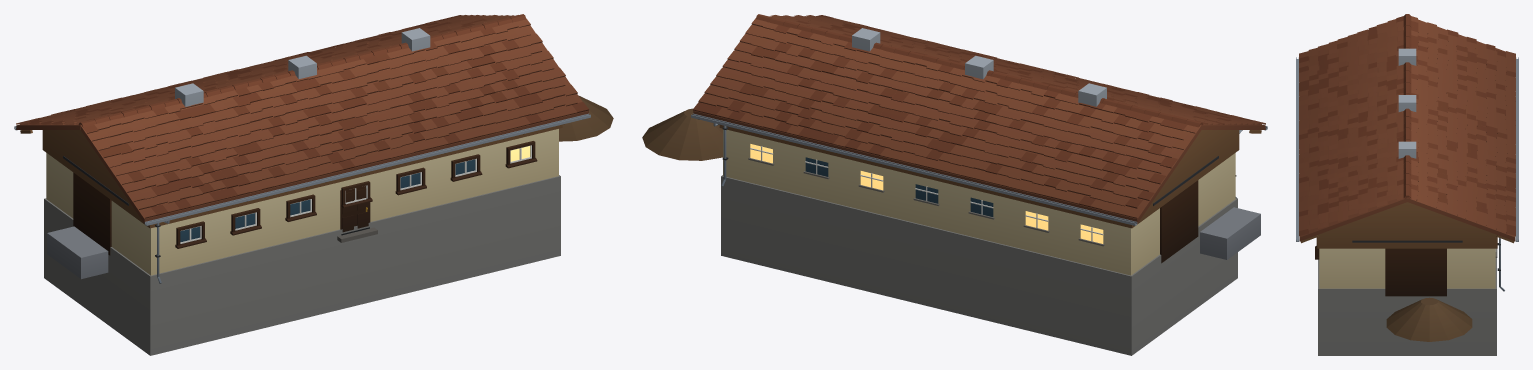
Rendered from Cowshed.fbx.
The picture shows the model from 3 angles, left to right: view 1: azimuth 30°, elevation 25°; view 2: azimuth 150°, elevation 25°; view 3: azimuth 270°, elevation 25°; orthographic projection. The views are drawn at different scales.
Parts seen in each view (by area): view 1: Cowshed_LOD0; view 2: Cowshed_LOD0; view 3: Cowshed_LOD0.
Boxes of the visible parts, x1,y1,x2,y2 form: Cowshed_LOD0: (14, 14, 613, 355); Cowshed_LOD0: (642, 14, 1267, 355); Cowshed_LOD0: (1296, 14, 1518, 355).
Size of what is drawn, in the model's own units: 25.1 by 8.66 by 10.12.
Materials: 1 (1 with a texture image).
